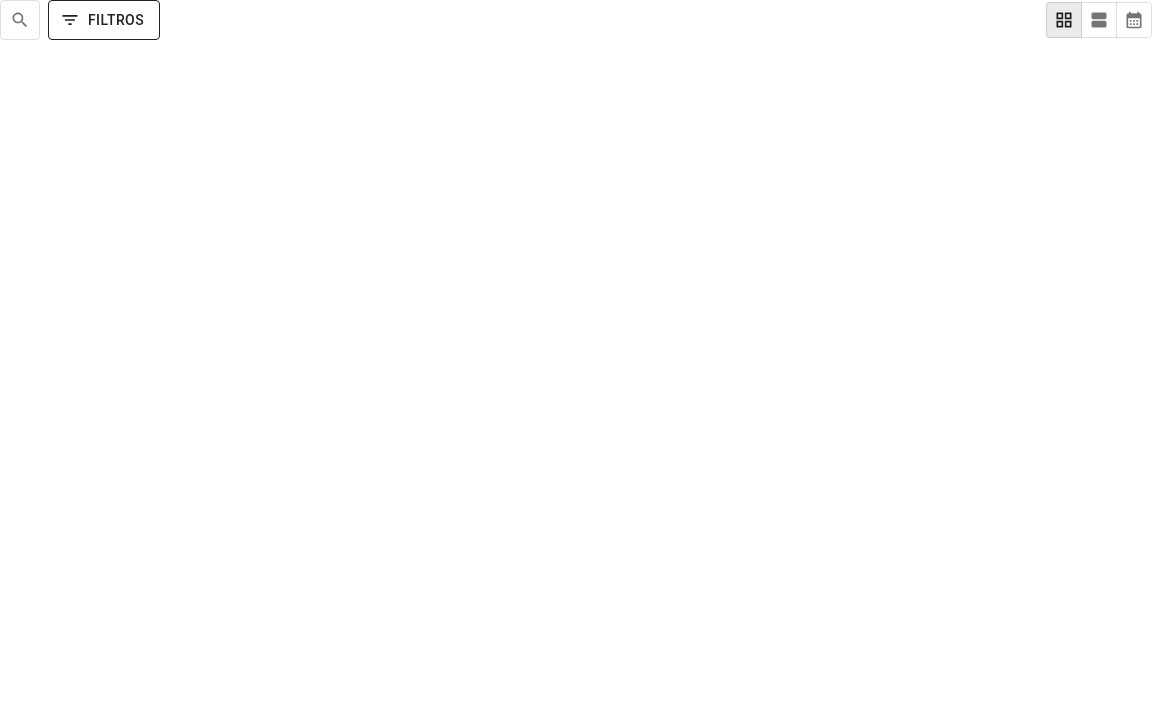
it: EventsFilters › mantém o modal de filtros no mobile
What coordinates should you click on to do the following:
click the button "Filtros"
I would click on:
 (104, 20)
Its box is [48, 0, 160, 40].
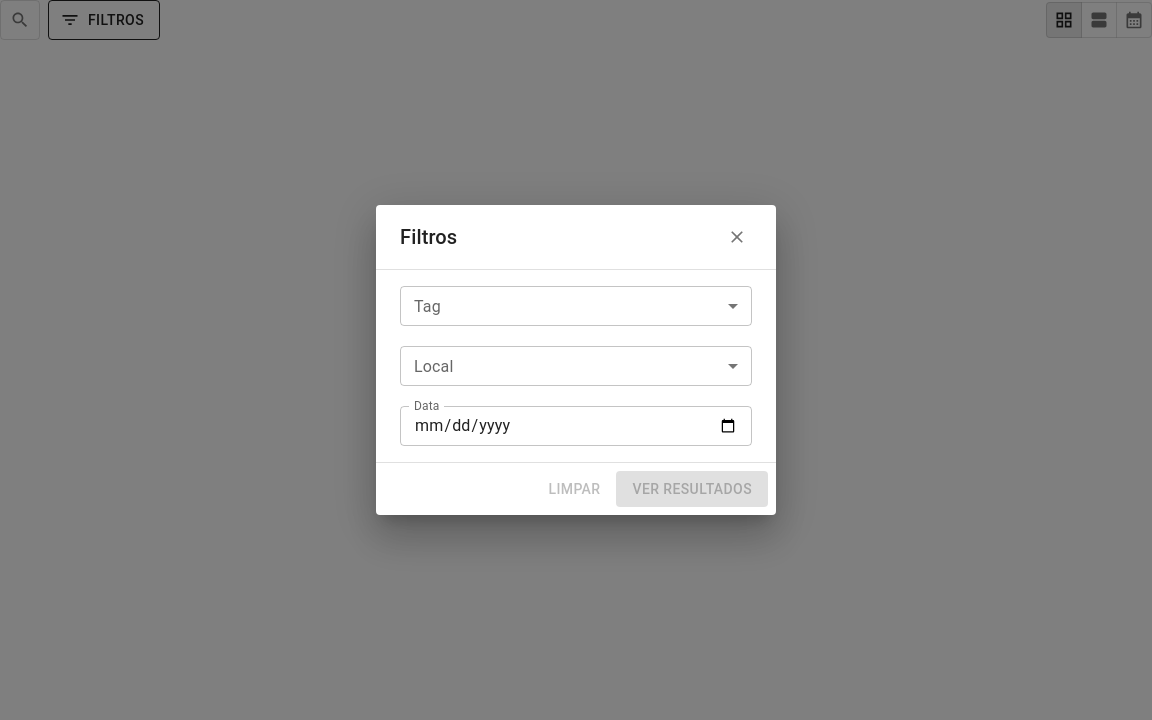
Expected: the dialog is shown, [376, 205, 776, 515]
